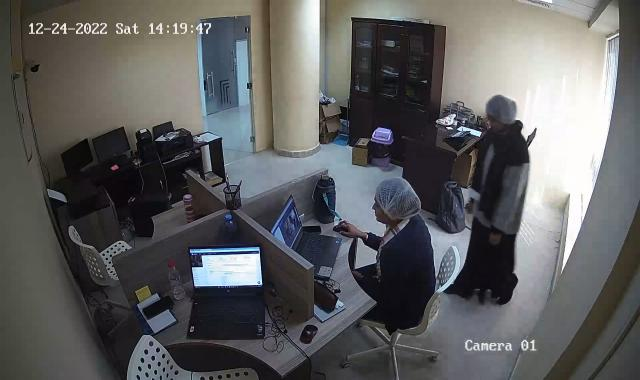hairnet: (372, 178, 419, 228), (483, 94, 518, 132)
